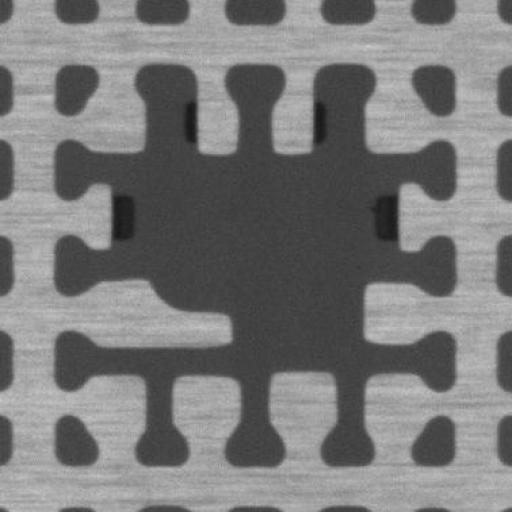NO_DIE: (54, 61, 458, 467)
